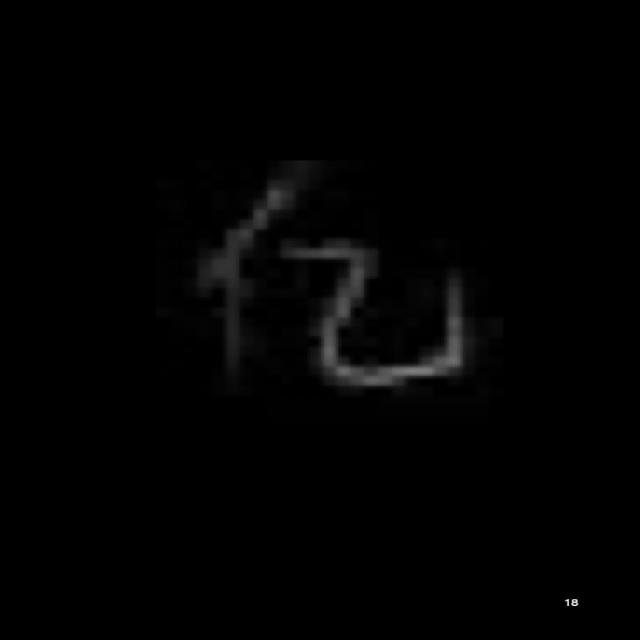100000 -a hundred thousand-: (175, 175, 488, 401)
